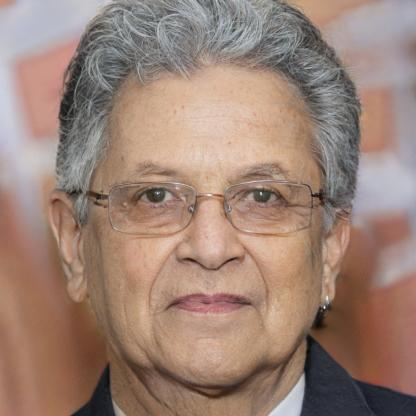eyeee: (122, 183, 184, 206), (235, 184, 293, 207)
mouthhz: (165, 291, 255, 316)
nosebb: (174, 194, 247, 272)
